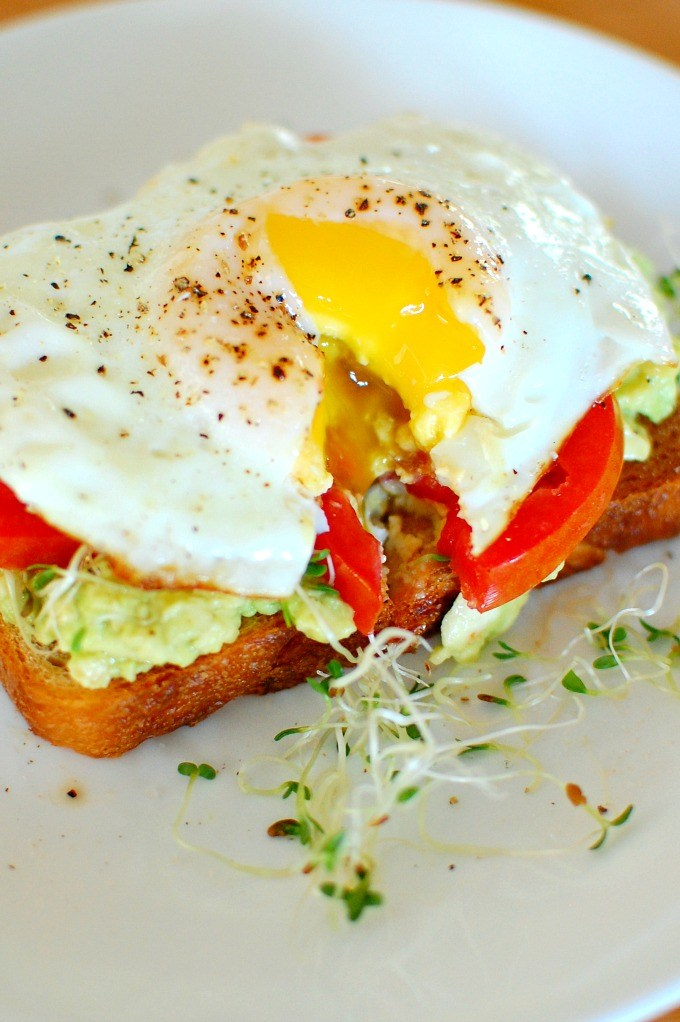fried egg: (1, 137, 680, 444)
slice of bread: (5, 502, 680, 767)
